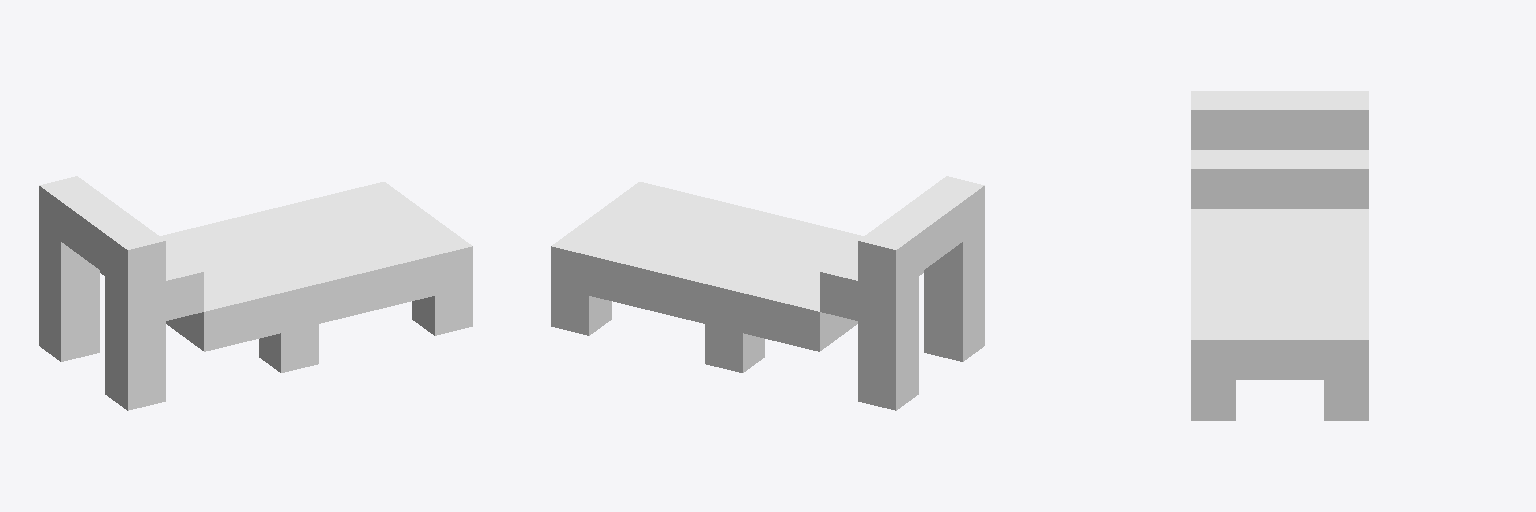
The model's file is deckchair_3.obj.
The picture shows the model from 3 angles: view 1: azimuth 30°, elevation 25°; view 2: azimuth 150°, elevation 25°; view 3: azimuth 270°, elevation 25°; orthographic projection.
Parts seen in each view (by area): view 1: object 1; view 2: object 1; view 3: object 1.
Part boxes in pixels (x1,y1,x2,y2): object 1: (39, 176, 472, 410); object 1: (551, 176, 984, 410); object 1: (1191, 91, 1368, 420).
Size of the model in its own units: 0.9 by 0.4 by 0.4.